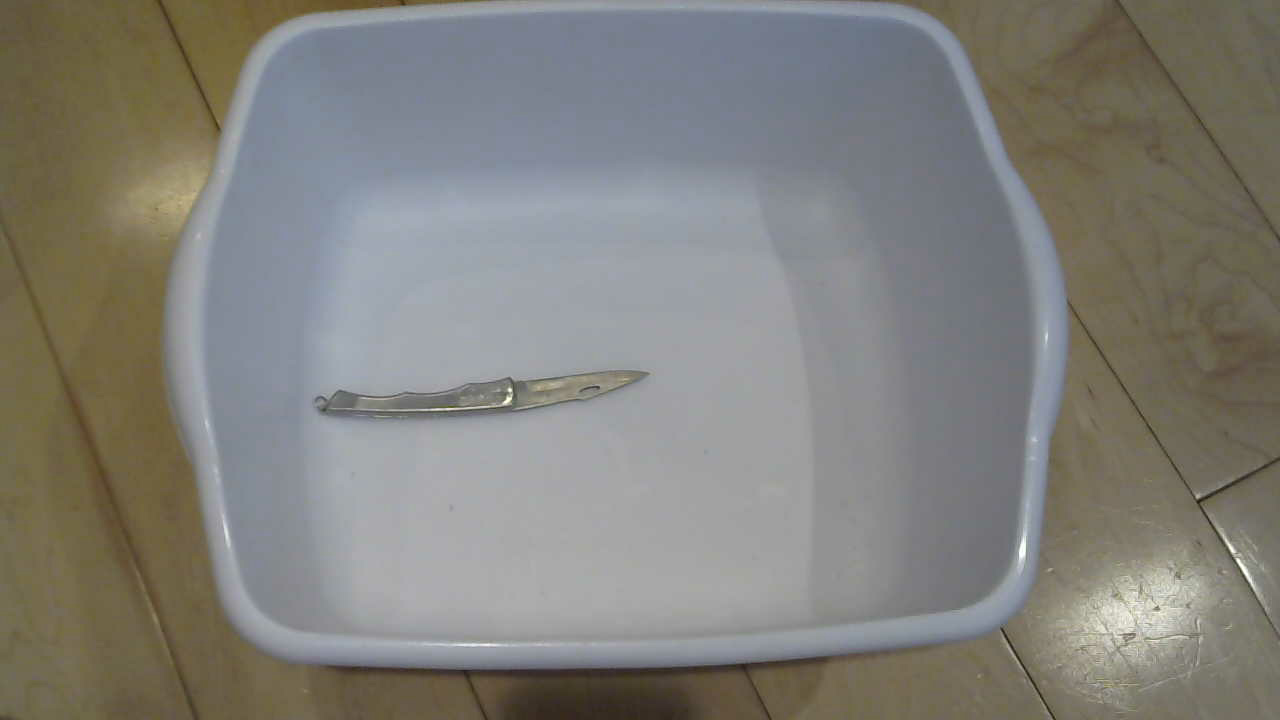knife: (313, 370, 658, 423)
